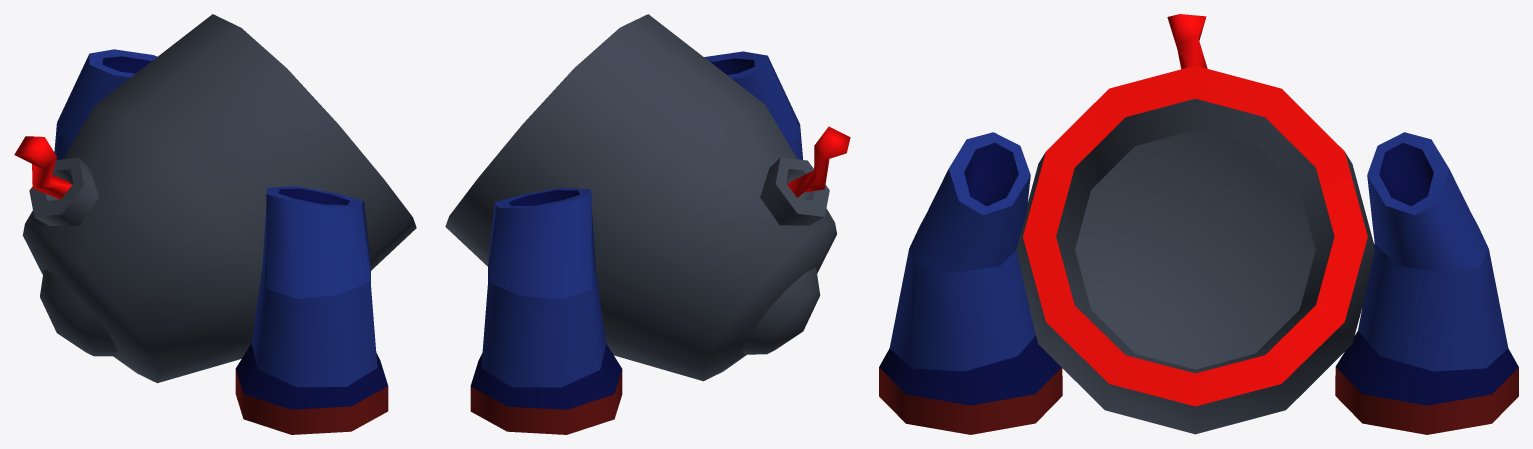
Rendered from flying_cannon.fbx.
3 renders of one model, left to right at view 1: azimuth 30°, elevation 25°; view 2: azimuth 150°, elevation 25°; view 3: azimuth 270°, elevation 25°, orthographic. The views are drawn at different scales.
Visible parts, largest first — view 1: flying_cannon, rockets; view 2: flying_cannon, rockets; view 3: flying_cannon, rockets.
Boxes of the visible parts, x1,y1,x2,y2 form: flying_cannon: (14, 14, 416, 383); rockets: (54, 49, 388, 434); flying_cannon: (445, 14, 850, 381); rockets: (470, 51, 802, 434); flying_cannon: (1016, 14, 1374, 434); rockets: (879, 132, 1518, 434).
Size of the model in its own units: 447 by 362 by 564.
